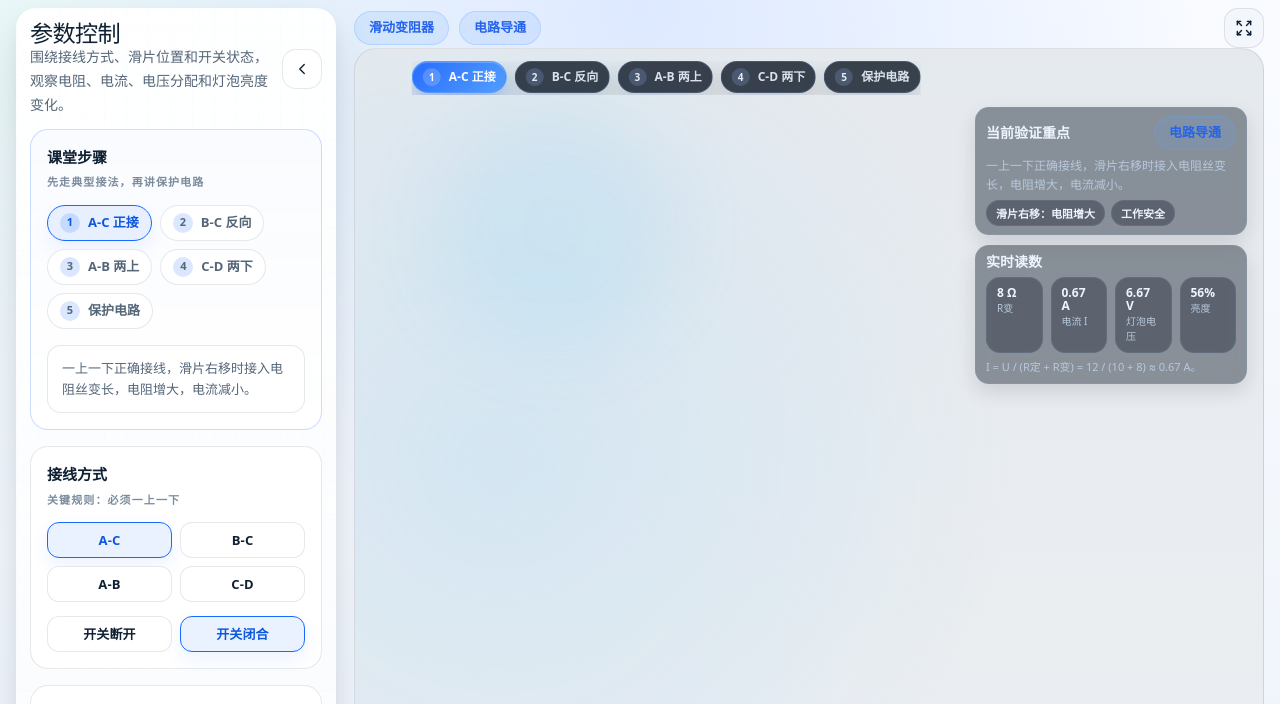
Test: VariableResistorLab › shows overcurrent risk for the C-D two-lower wiring
Click the button "4 C-D 两下" below "先走典型接法，再讲保护电路" at (213, 267), box x1=160 y1=249 x2=266 y2=285
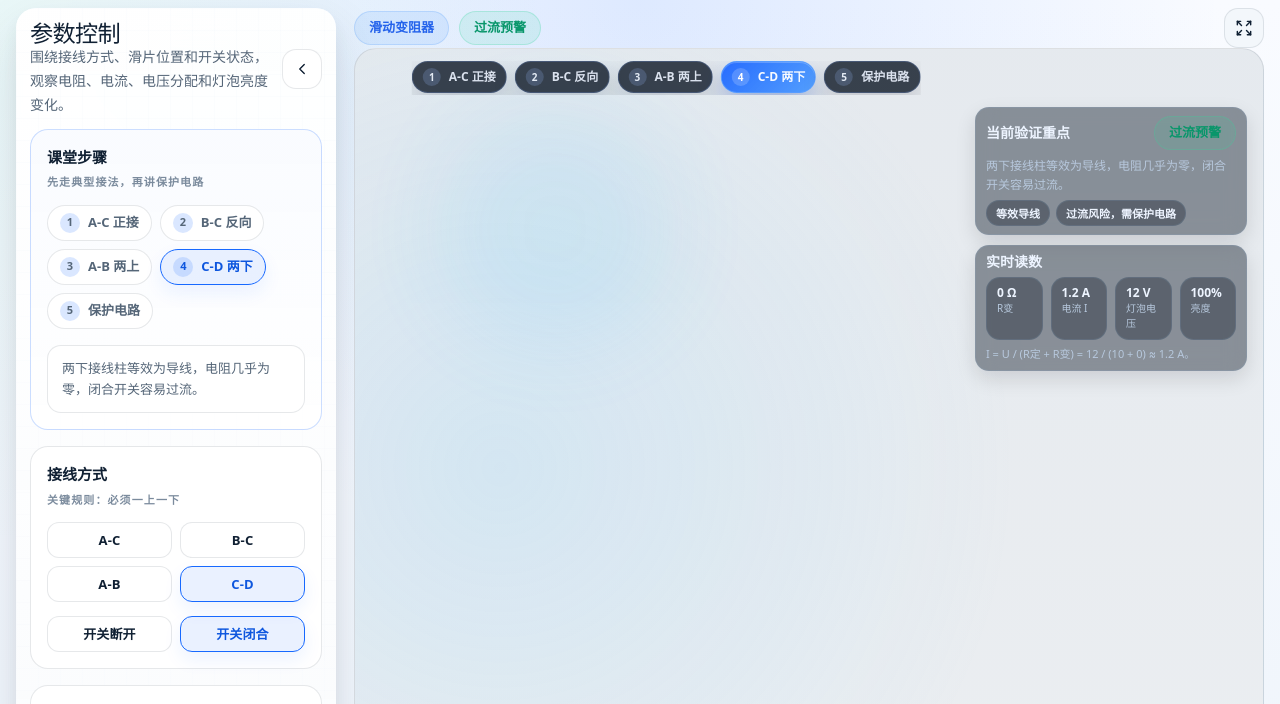
Check: the text "过流风险，需保护电路" is shown, box x1=1056 y1=200 x2=1186 y2=226
